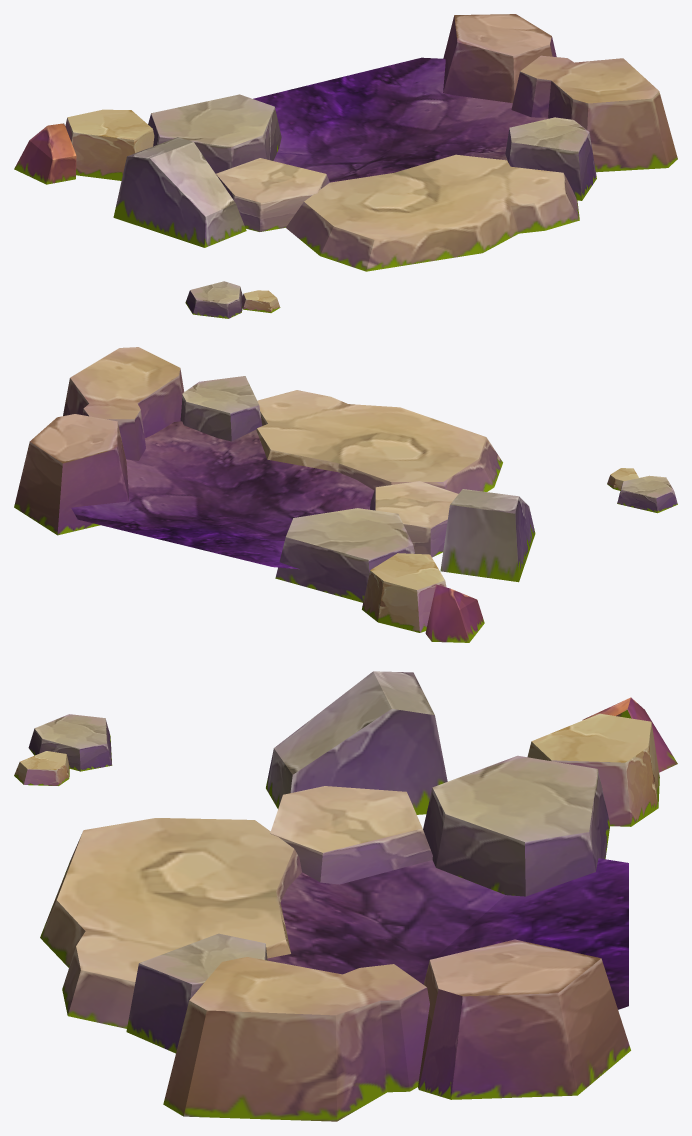
The model's file is scenes_construction_quarry02.FBX.
3 views of the same model, one above another, from view 1: azimuth 30°, elevation 25°; view 2: azimuth 150°, elevation 25°; view 3: azimuth 270°, elevation 25° (orthographic). The views are drawn at different scales.
Parts seen in each view (by area): view 1: scenes_construction_quarry02; view 2: scenes_construction_quarry02; view 3: scenes_construction_quarry02.
Part boxes in pixels (x1,y1,x2,y2): scenes_construction_quarry02: [14, 14, 677, 318]; scenes_construction_quarry02: [14, 347, 677, 642]; scenes_construction_quarry02: [14, 671, 677, 1121].
Size of the model in its own units: 1585 by 195 by 1140.
